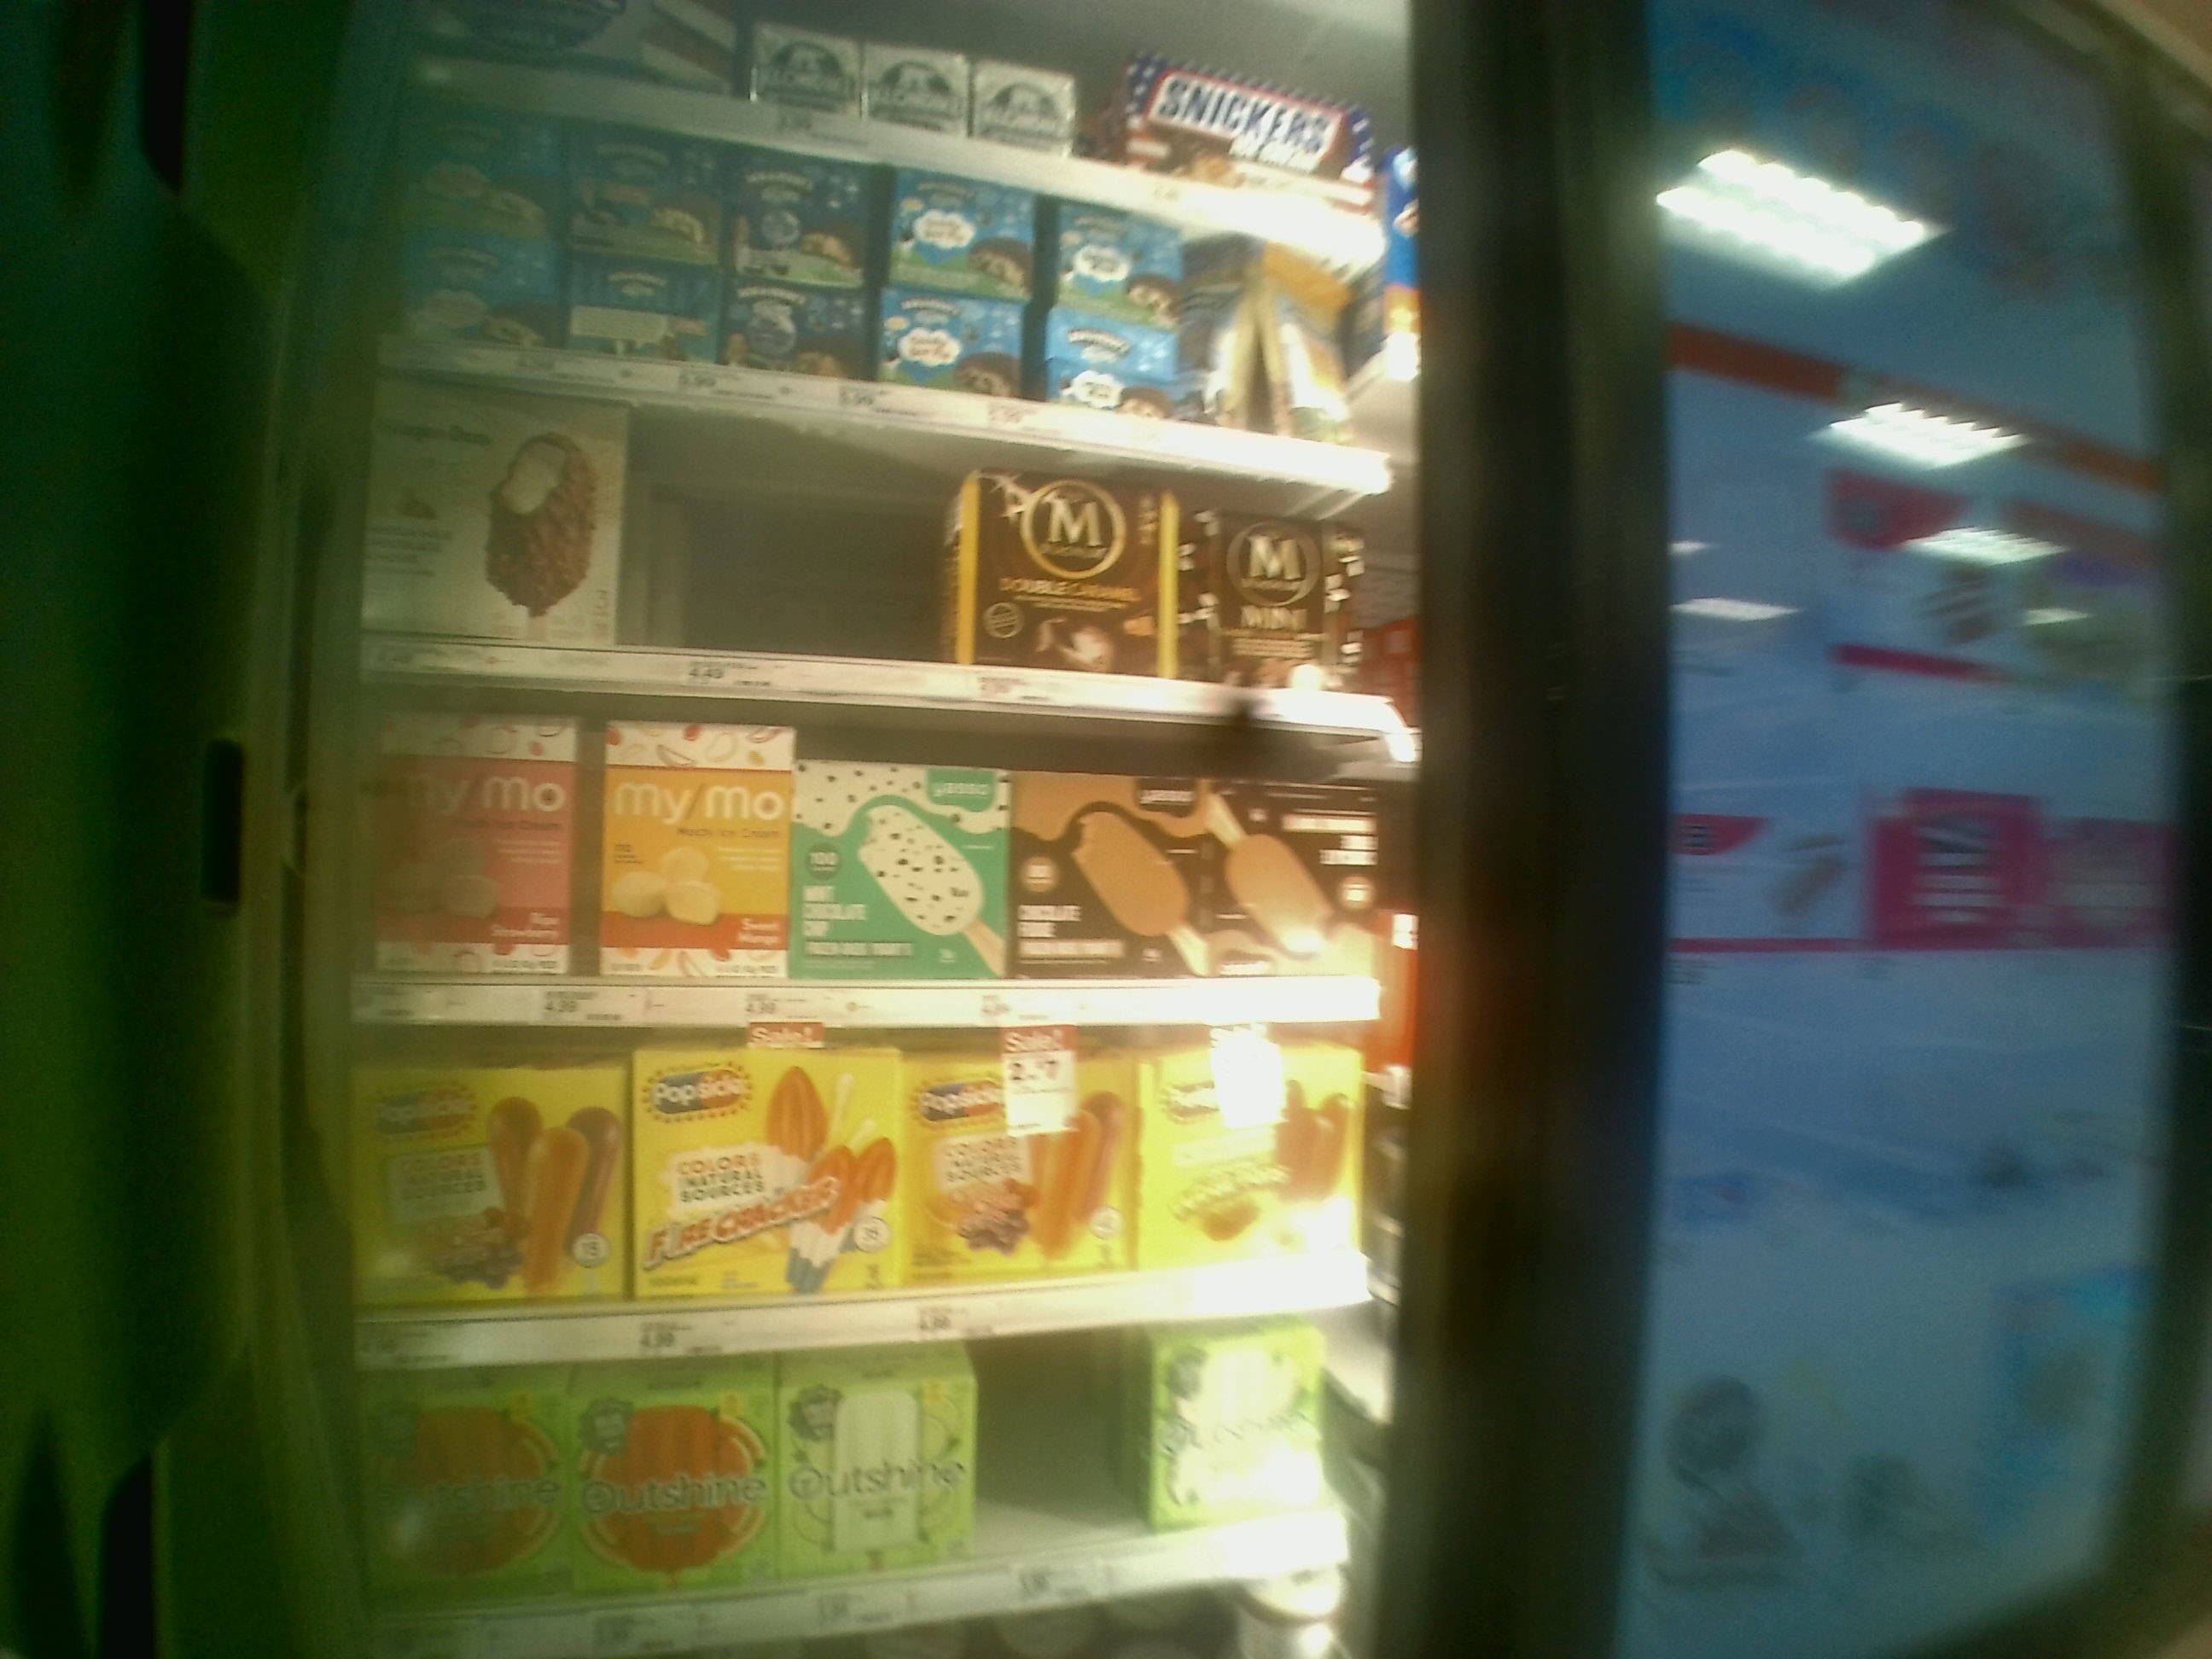ice-cream-shelf: (350, 681, 1390, 1028), (347, 1030, 1420, 1364)
